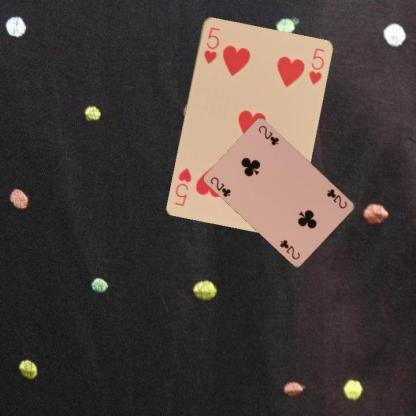2c: (208, 174, 232, 198), (324, 186, 349, 209)
5h: (201, 24, 221, 65)
